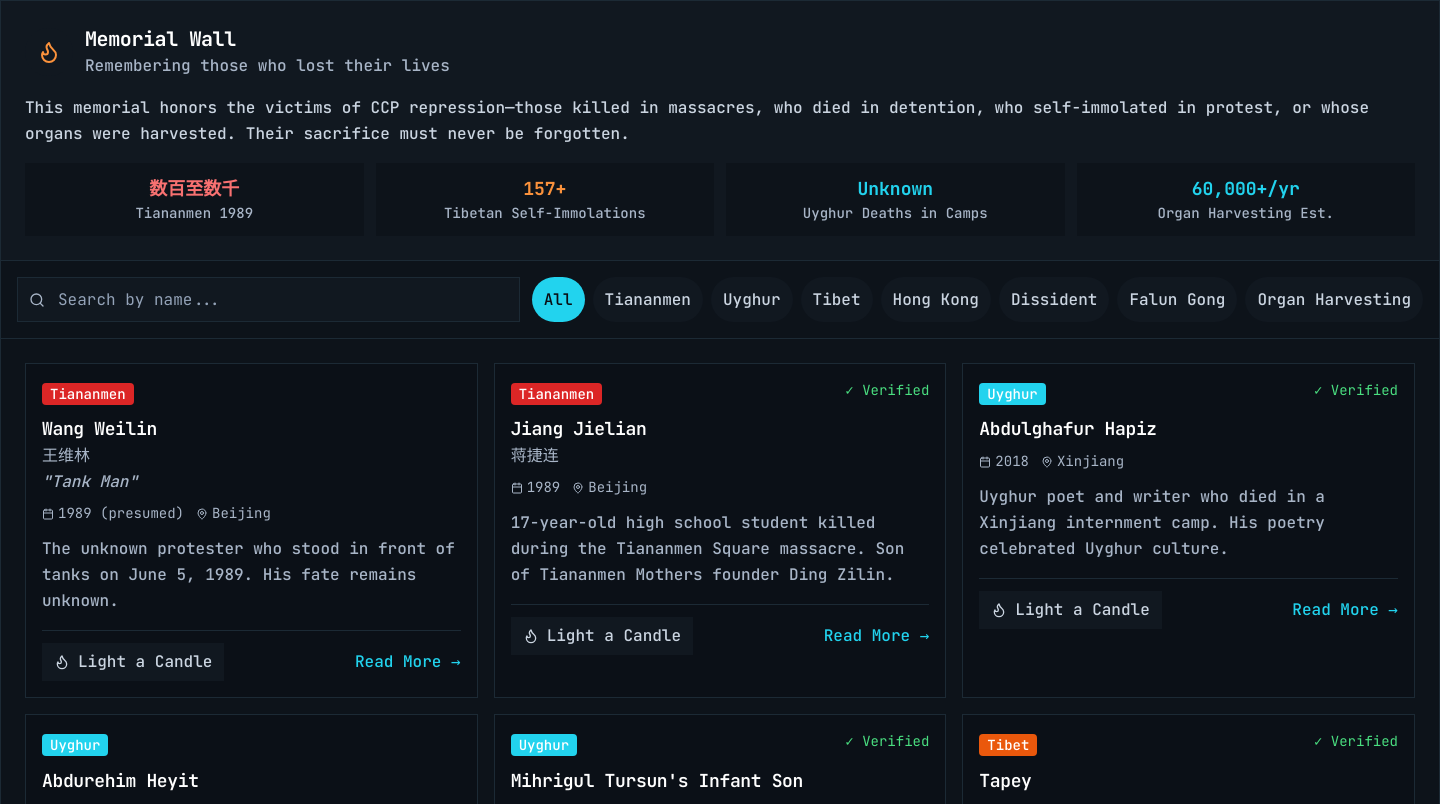
Test case: MemorialWall › opens modal when Read More is clicked
This screenshot has width=1440, height=804.
Click the button "Read More →" below "1989 (presumed)" at [408, 662], box [355,649,461,675]
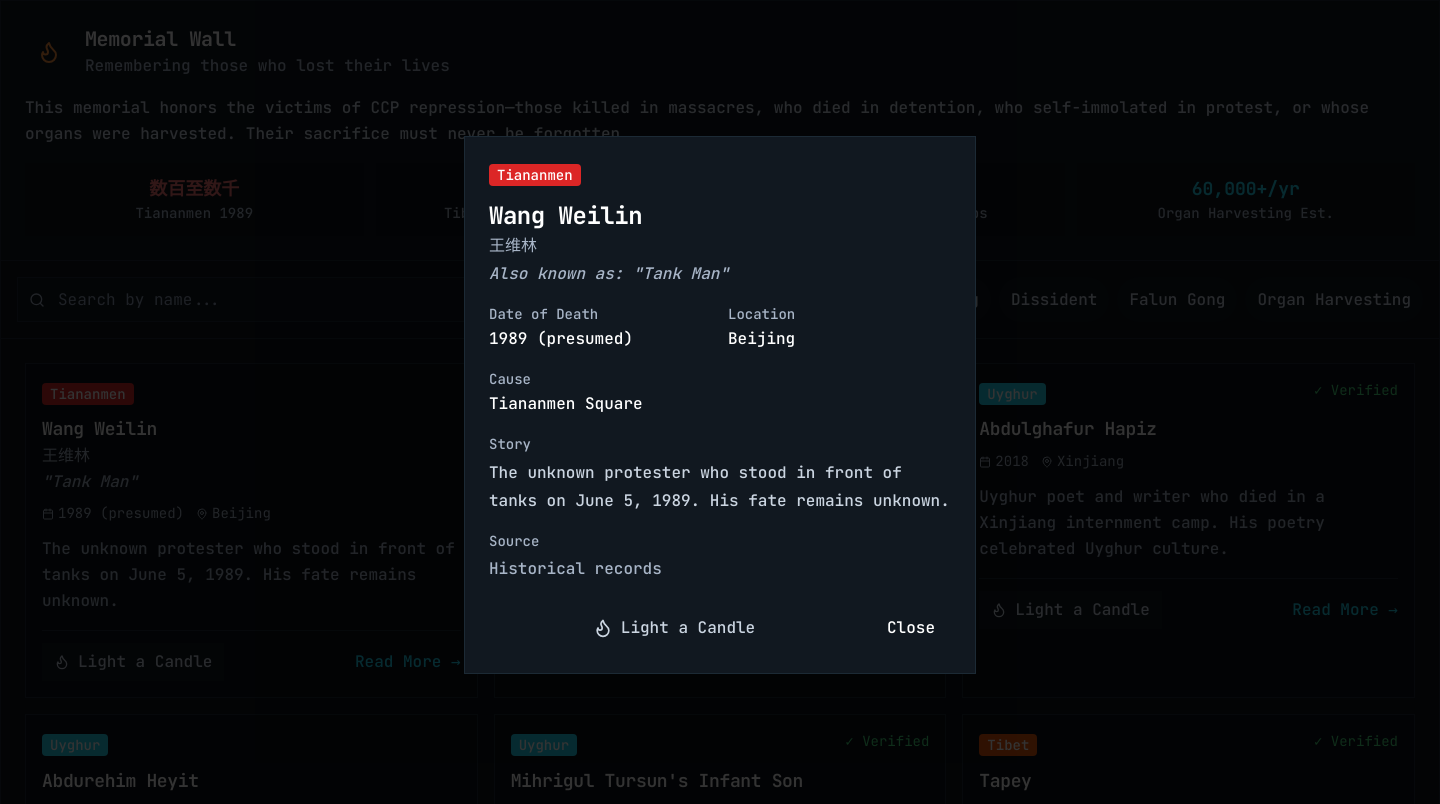
Now the button "Close" is shown, box [871,606,951,649]
